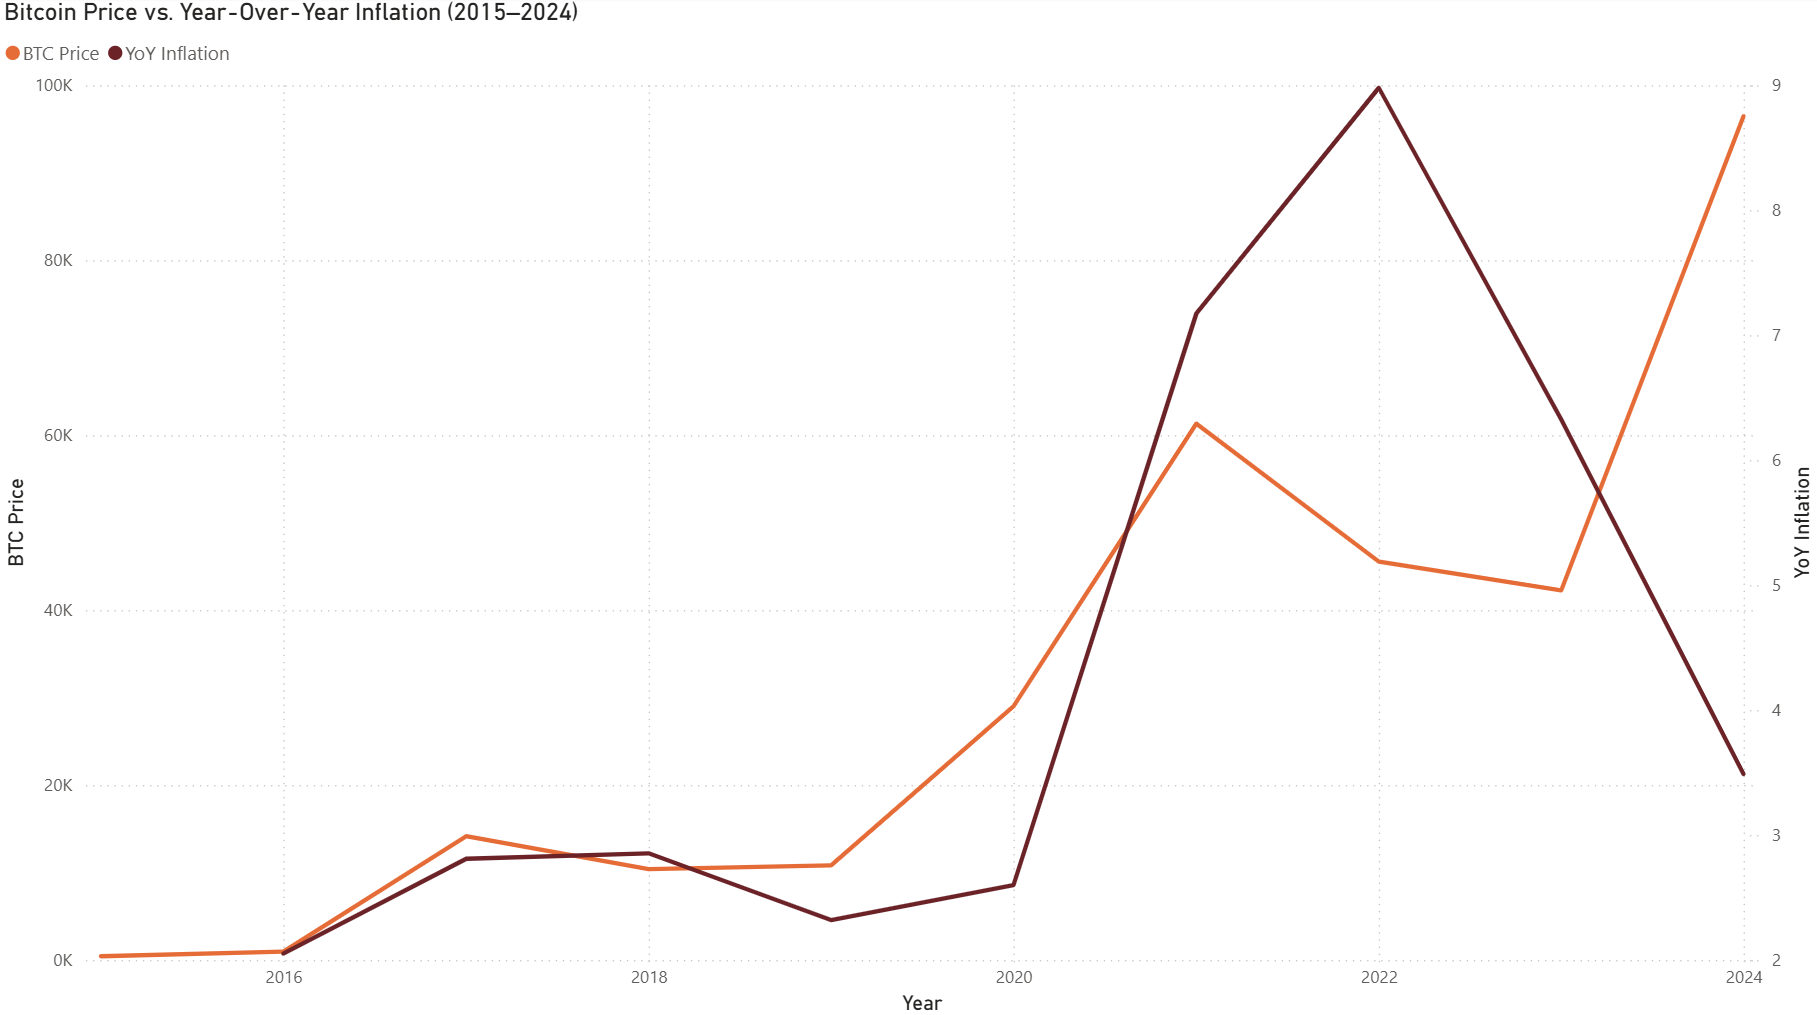

What the dashboard file says about the page in this screenshot:
{"tool":"powerbi","page":{"name":"BTC vs CPI/Inflation","canvas":[1280,720],"ordinal":2},"visuals":[{"type":"lineChart","title":"Bitcoin Price vs. Year-Over-Year Inflation (2015–2024)","fields":{"Category":["btc_macro_data.date.Variation.Date Hierarchy.Year","btc_macro_data.date.Variation.Date Hierarchy.Month"],"Y":["Sum(btc_macro_data.btc_price)"],"Y2":["Sum(btc_macro_data.cpi_yoy)"]},"box":[0,0,1280,719.9],"z":0}]}

Visuals, with their boxes in screenshot pixels (x1, y1, x2, y2), scaled from the page's 1280x720 canvas onto the 1817x1015 screenshot:
"Bitcoin Price vs. Year-Over-Year Inflation (2015–2024)" lineChart: rect(0, 0, 1816, 1014)
